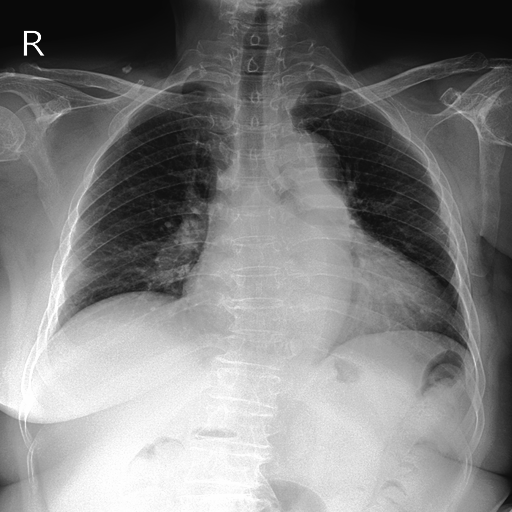Consolidation: (264, 127, 345, 202)
Nodule/Mass: (181, 242, 453, 340)
Other lesion: (118, 65, 133, 76)
Pulmonary fibrosis: (120, 62, 132, 74)
